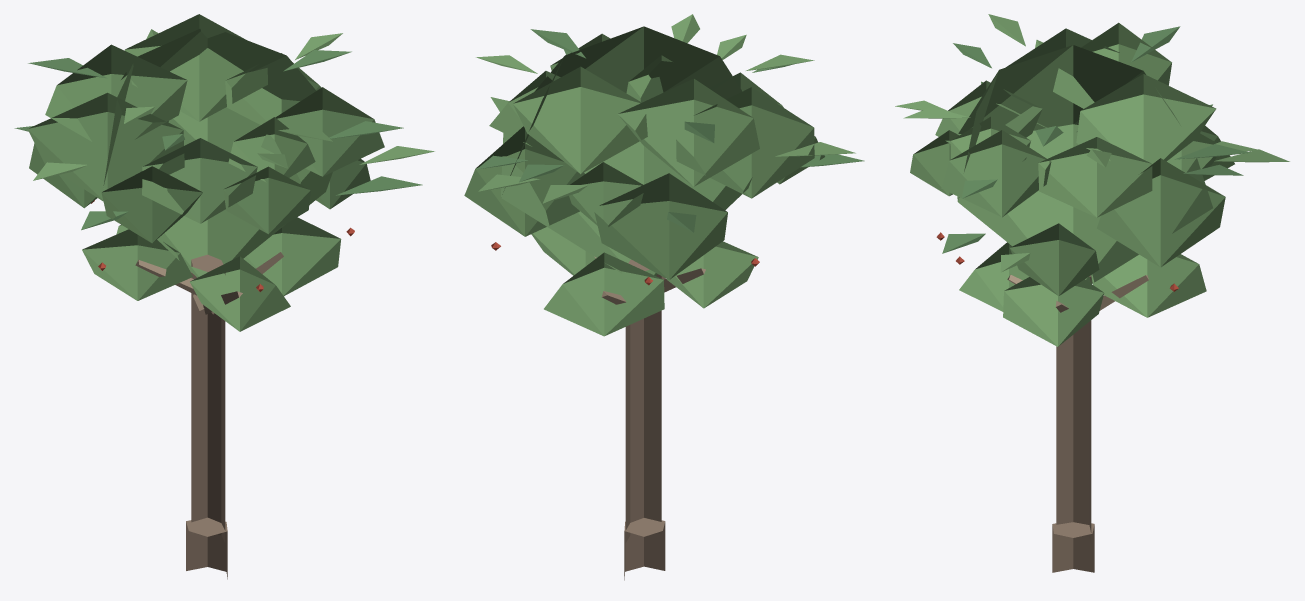
The model's file is shu.longnao@fruiting__summer.glb.
3 renders of one model, left to right at view 1: azimuth 30°, elevation 25°; view 2: azimuth 150°, elevation 25°; view 3: azimuth 270°, elevation 25°, orthographic. The views are drawn at different scales.
Parts seen in each view (by area): view 1: shu.longnao@fruiting__summer; view 2: shu.longnao@fruiting__summer; view 3: shu.longnao@fruiting__summer.
Part boxes in pixels (x1,y1,x2,y2): shu.longnao@fruiting__summer: [14, 14, 434, 579]; shu.longnao@fruiting__summer: [464, 14, 864, 580]; shu.longnao@fruiting__summer: [895, 14, 1289, 572].
Size of the model in its own units: 21.86 by 29.23 by 19.99.
